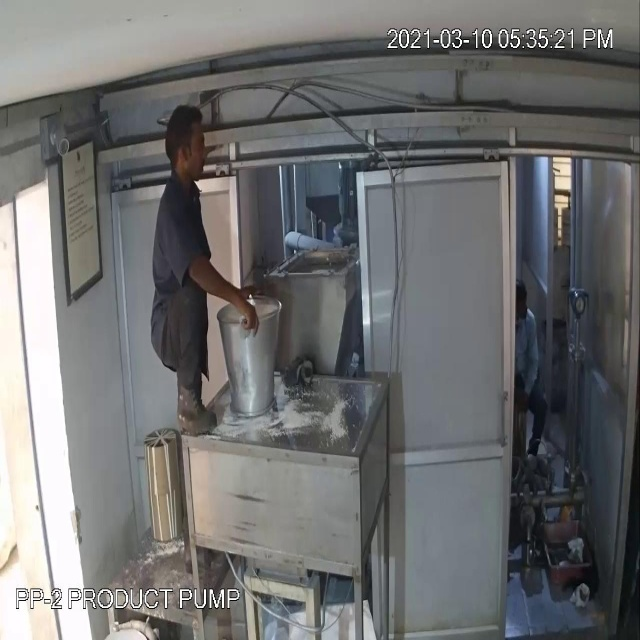Sin_guantes: (182, 234, 265, 338)
